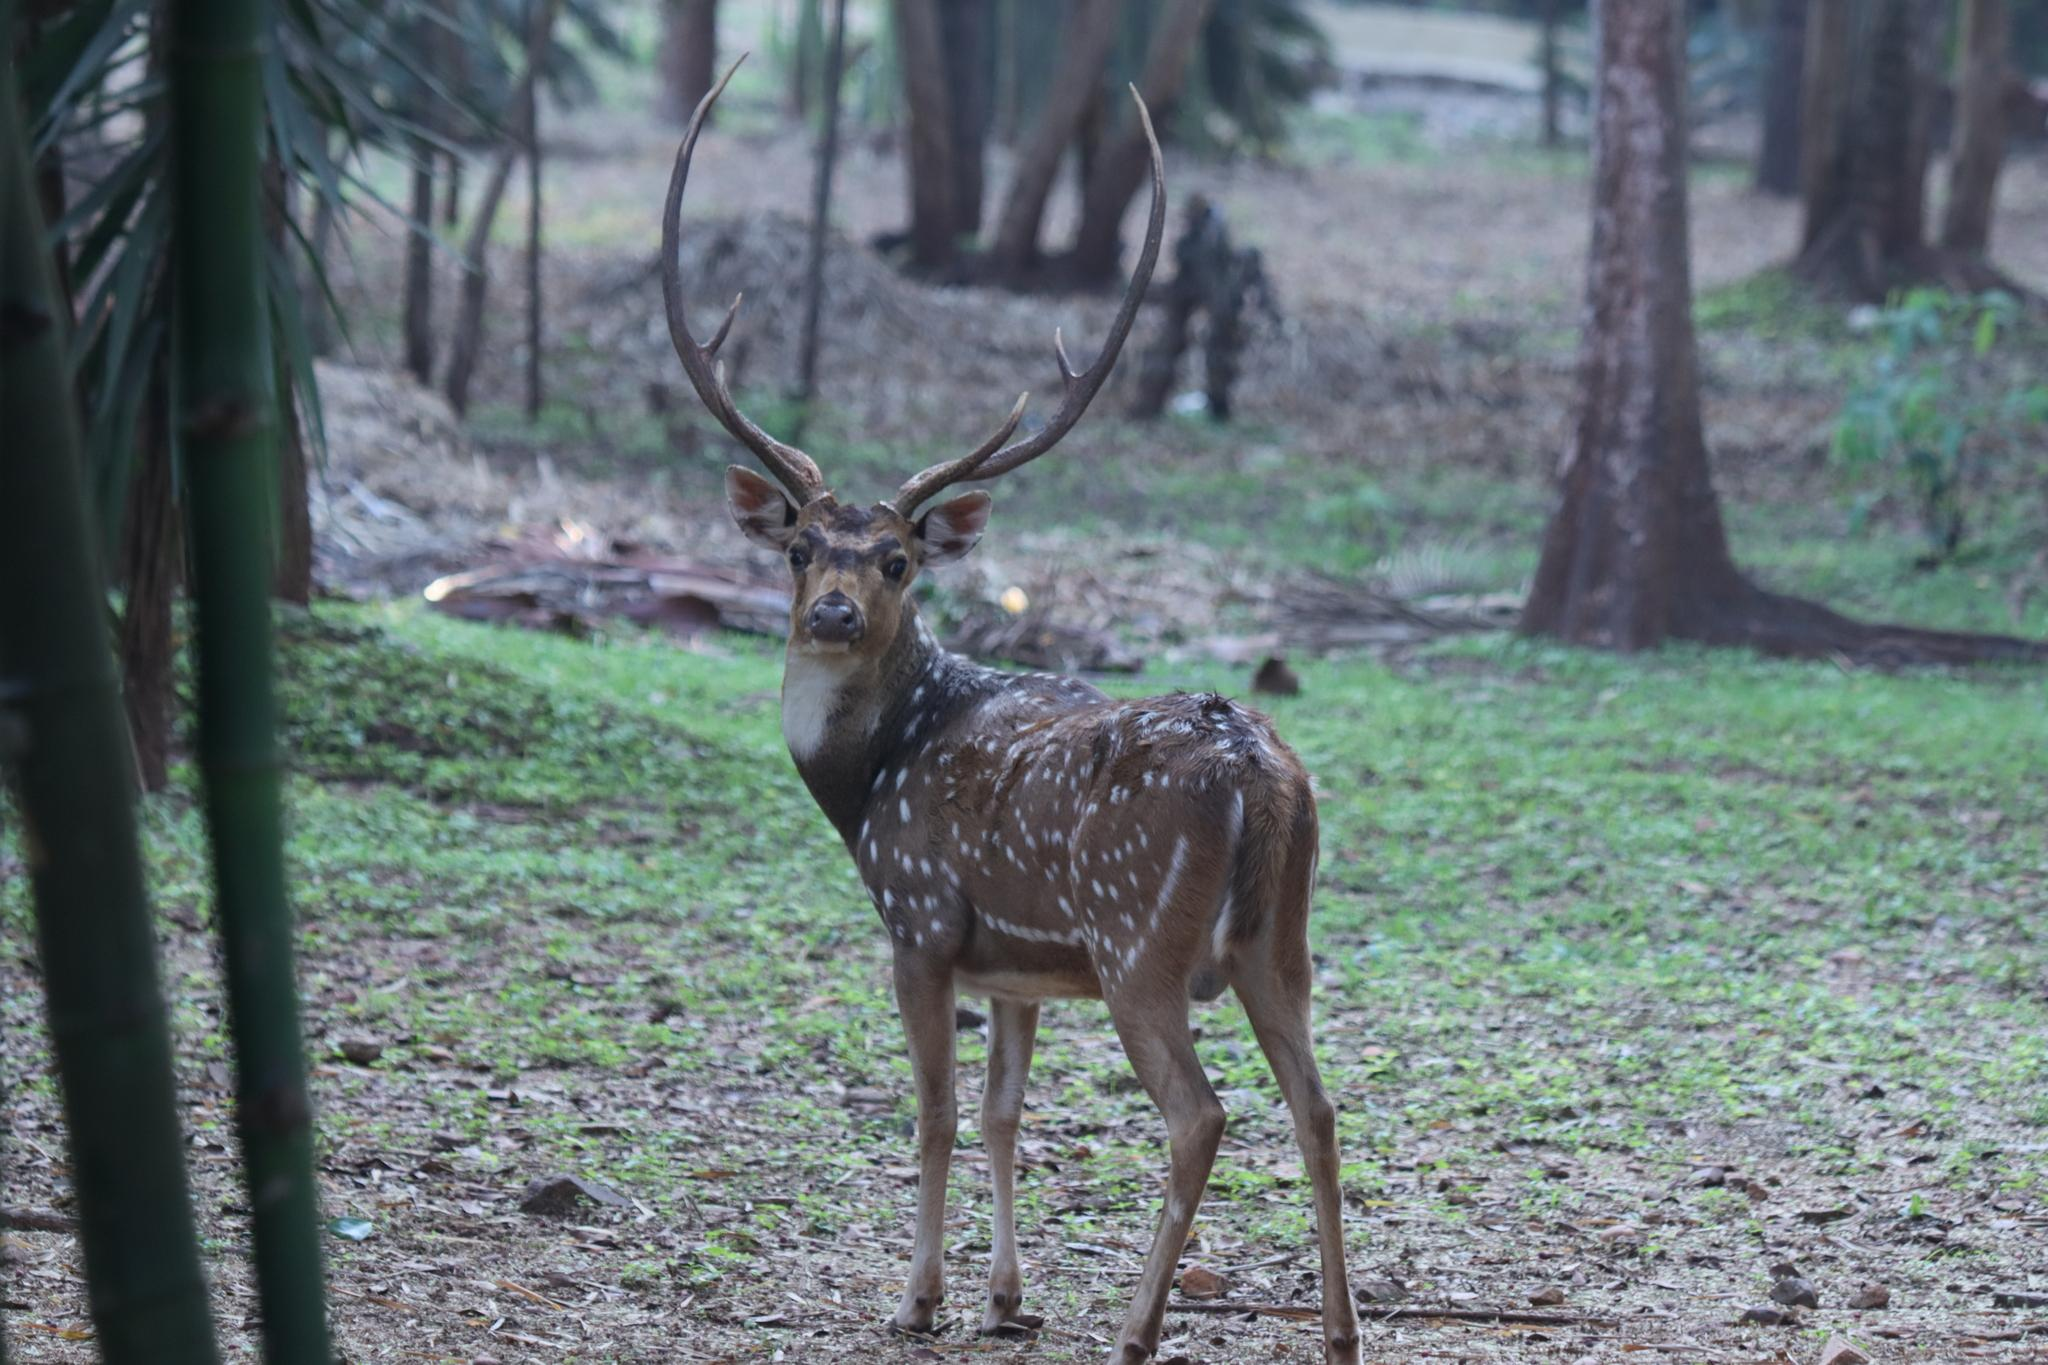Deer: (662, 66, 1360, 1363)
